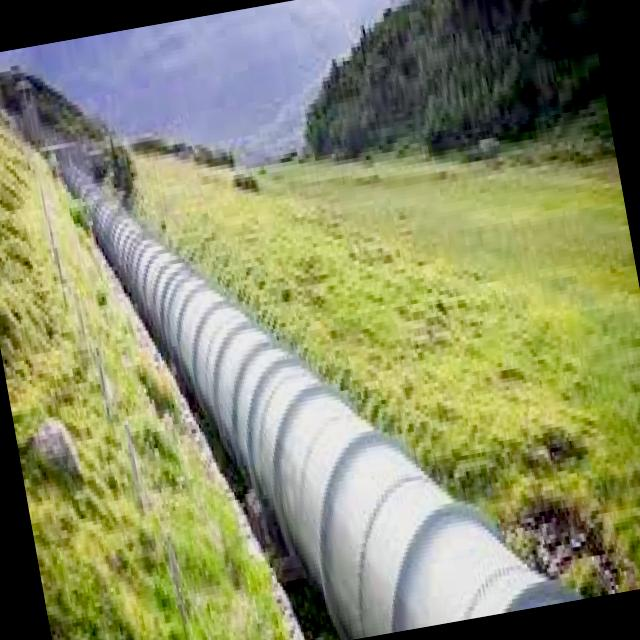gas: (61, 165, 575, 638)
